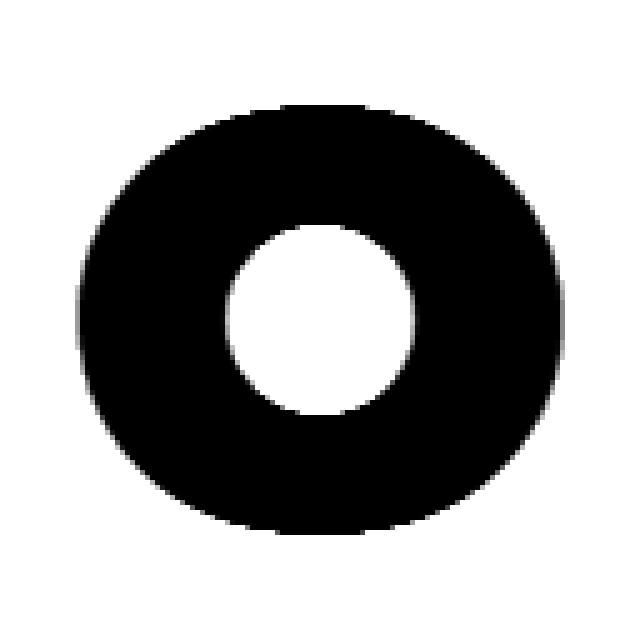O: (70, 95, 565, 535)
